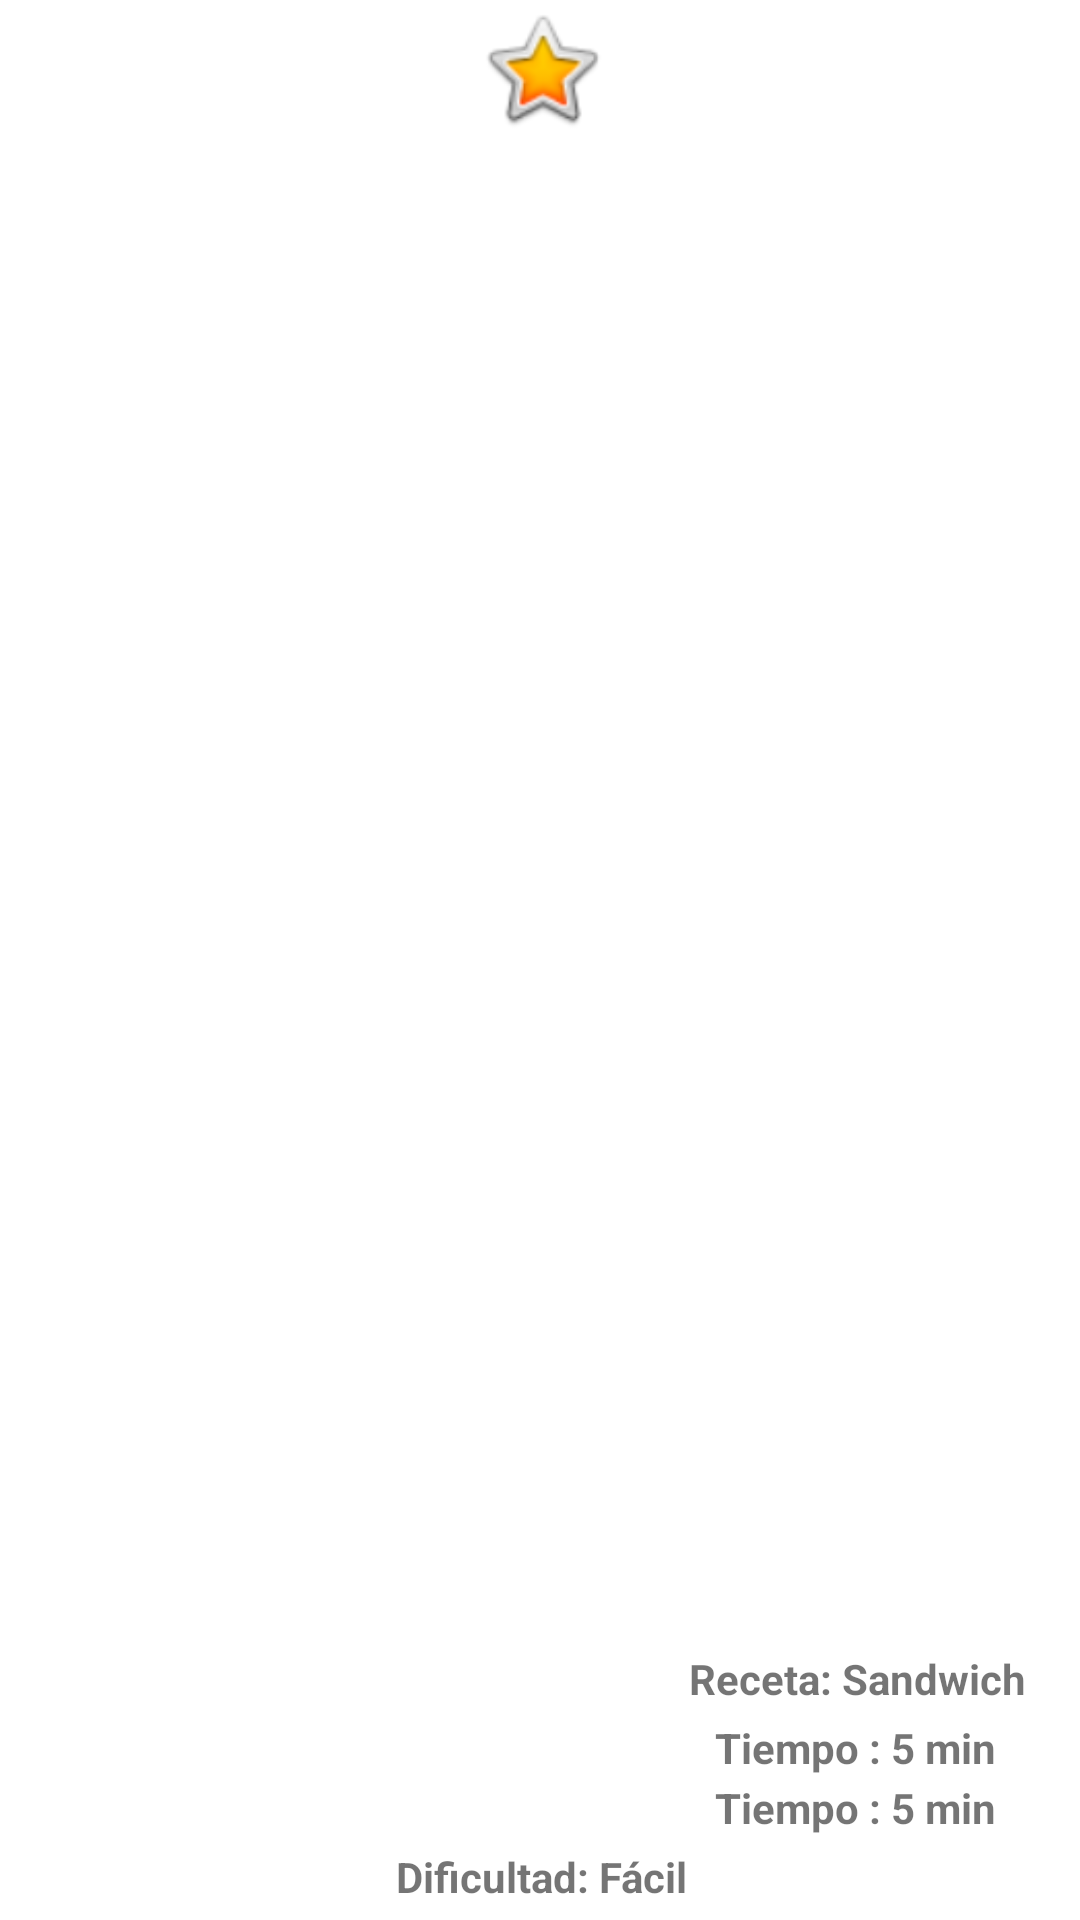

Screen size 1080 x 1920. Icon name, then its center in pixels as [x,y]:
star on: [543,70]
